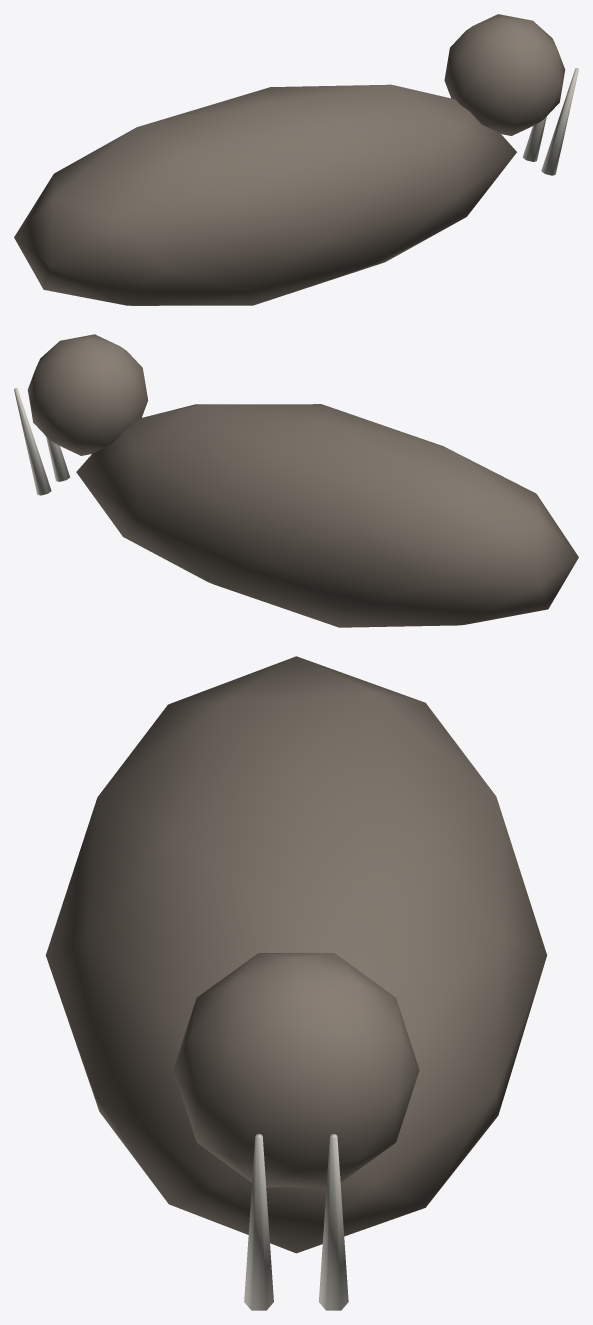
Rendered from walrus.glb.
3 views of the same model, one above another, from view 1: azimuth 30°, elevation 25°; view 2: azimuth 150°, elevation 25°; view 3: azimuth 270°, elevation 25° (orthographic). The views are drawn at different scales.
Parts seen in each view (by area): view 1: walrus; view 2: walrus; view 3: walrus.
Boxes of the visible parts, x1=… form: walrus: x1=14, y1=14, x2=578, y2=305; walrus: x1=14, y1=334, x2=578, y2=627; walrus: x1=45, y1=656, x2=547, y2=1310.
Bounding box in the file's own units: 3.32 × 1.22 × 1.34.
